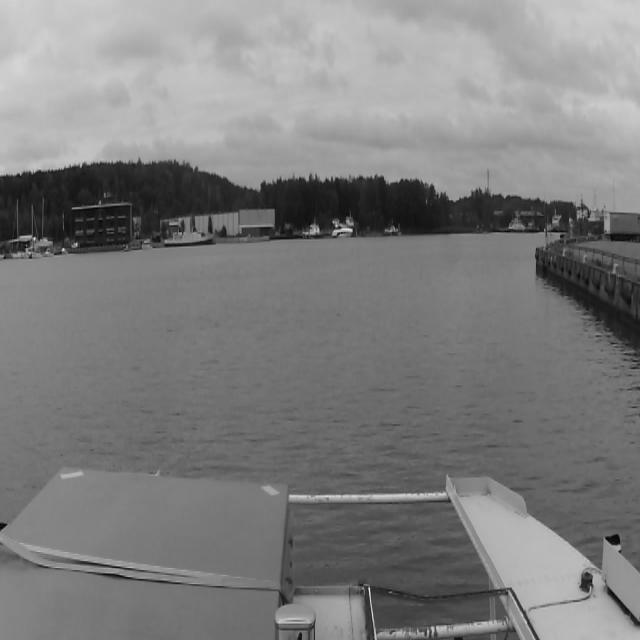ship: (164, 228, 214, 248), (331, 219, 353, 238)
